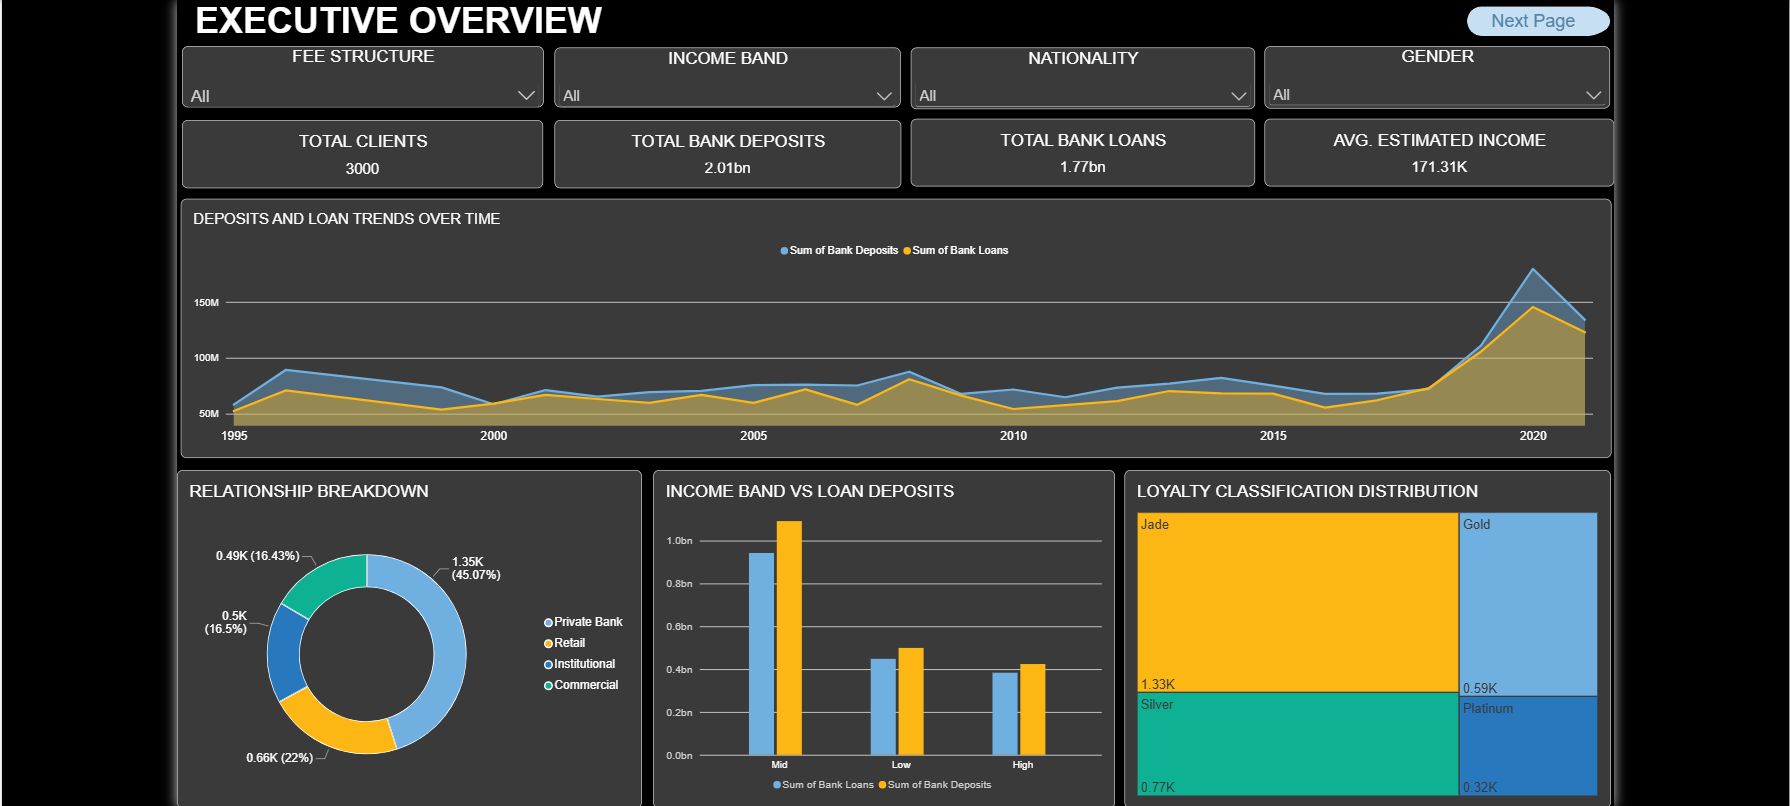

Layout of this report page (visuals, bound fields, positions):
{"tool":"powerbi","page":{"name":"Page 1","canvas":[1920,1080],"ordinal":0},"visuals":[{"type":"textbox","box":[10.9,0,1579.8,63.3],"z":0},{"type":"textbox","box":[13,0,564.8,62.8],"z":1000},{"type":"card","title":"TOTAL CLIENTS","fields":{"Values":["CountNonNull(banking_merged.Client ID)"]},"box":[6.5,160.1,482.6,90.9],"z":2000},{"type":"card","title":"TOTAL BANK LOANS","fields":{"Values":["Sum(banking_merged.Bank Loans)"]},"box":[980.8,159.3,459.7,90.5],"z":3000},{"type":"card","title":"TOTAL BANK DEPOSITS","fields":{"Values":["Sum(banking_merged.Bank Deposits)"]},"box":[504.2,160.1,463.1,90.9],"z":4000},{"type":"card","title":"AVG. ESTIMATED INCOME","fields":{"Values":["Avg(banking_merged.Estimated Income)"]},"box":[1453.2,159.3,466.9,90.5],"z":5000},{"type":"slicer","title":"FEE STRUCTURE","fields":{"Values":["banking_merged.Fee Structure"]},"box":[7.2,61.5,483.2,81.4],"z":6000},{"type":"slicer","title":"INCOME BAND","fields":{"Values":["banking_merged.Income Band"]},"box":[504,64,462,80],"z":7000},{"type":"slicer","title":"NATIONALITY","fields":{"Values":["banking_merged.Nationality"]},"box":[980,64,460,82],"z":8000},{"type":"slicer","title":"GENDER","fields":{"Values":["banking_merged.Gender"]},"box":[1453.2,61.5,461.5,83.2],"z":9000},{"type":"areaChart","title":"DEPOSITS AND LOAN TRENDS OVER TIME","fields":{"Category":["banking_merged.Joined Bank.Variation.Date Hierarchy.Year"],"Y":["Sum(banking_merged.Bank Deposits)","Sum(banking_merged.Bank Loans)"]},"box":[4.3,266.2,1910.9,346.3],"z":10000},{"type":"donutChart","title":"RELATIONSHIP BREAKDOWN","fields":{"Category":["banking_merged.Banking Relationship"],"Y":["CountNonNull(banking_merged.Client ID)"]},"box":[0,627.6,621.1,452.3],"z":11000},{"type":"clusteredColumnChart","title":"INCOME BAND VS LOAN DEPOSITS","fields":{"Category":["banking_merged.Income Band"],"Y":["Sum(banking_merged.Bank Loans)","Sum(banking_merged.Bank Deposits)"]},"box":[636.3,627.6,616.8,452.3],"z":12000},{"type":"treemap","title":"LOYALTY CLASSIFICATION DISTRIBUTION","fields":{"Group":["banking_merged.Loyalty Classification"],"Values":["CountNonNull(banking_merged.Client ID)"]},"box":[1266,627.6,649.2,452.3],"z":13000},{"type":"actionButton","title":"Next Page","box":[1722.8,9,197.3,39.8],"z":14000}]}

Visuals, with their boxes on the page's 1920x1080 design canvas (x1, y1, x2, y2). These are canvas units, not pixel positions in the 1790x806 screenshot, which may show the page scaled, cropped or inside an application window:
textbox: [x1=11, y1=0, x2=1591, y2=63]
textbox: [x1=13, y1=0, x2=578, y2=63]
"TOTAL CLIENTS" card: [x1=6, y1=160, x2=489, y2=251]
"TOTAL BANK LOANS" card: [x1=981, y1=159, x2=1440, y2=250]
"TOTAL BANK DEPOSITS" card: [x1=504, y1=160, x2=967, y2=251]
"AVG. ESTIMATED INCOME" card: [x1=1453, y1=159, x2=1920, y2=250]
"FEE STRUCTURE" slicer: [x1=7, y1=62, x2=490, y2=143]
"INCOME BAND" slicer: [x1=504, y1=64, x2=966, y2=144]
"NATIONALITY" slicer: [x1=980, y1=64, x2=1440, y2=146]
"GENDER" slicer: [x1=1453, y1=62, x2=1915, y2=145]
"DEPOSITS AND LOAN TRENDS OVER TIME" areaChart: [x1=4, y1=266, x2=1915, y2=612]
"RELATIONSHIP BREAKDOWN" donutChart: [x1=0, y1=628, x2=621, y2=1080]
"INCOME BAND VS LOAN DEPOSITS" clusteredColumnChart: [x1=636, y1=628, x2=1253, y2=1080]
"LOYALTY CLASSIFICATION DISTRIBUTION" treemap: [x1=1266, y1=628, x2=1915, y2=1080]
"Next Page" actionButton: [x1=1723, y1=9, x2=1920, y2=49]
